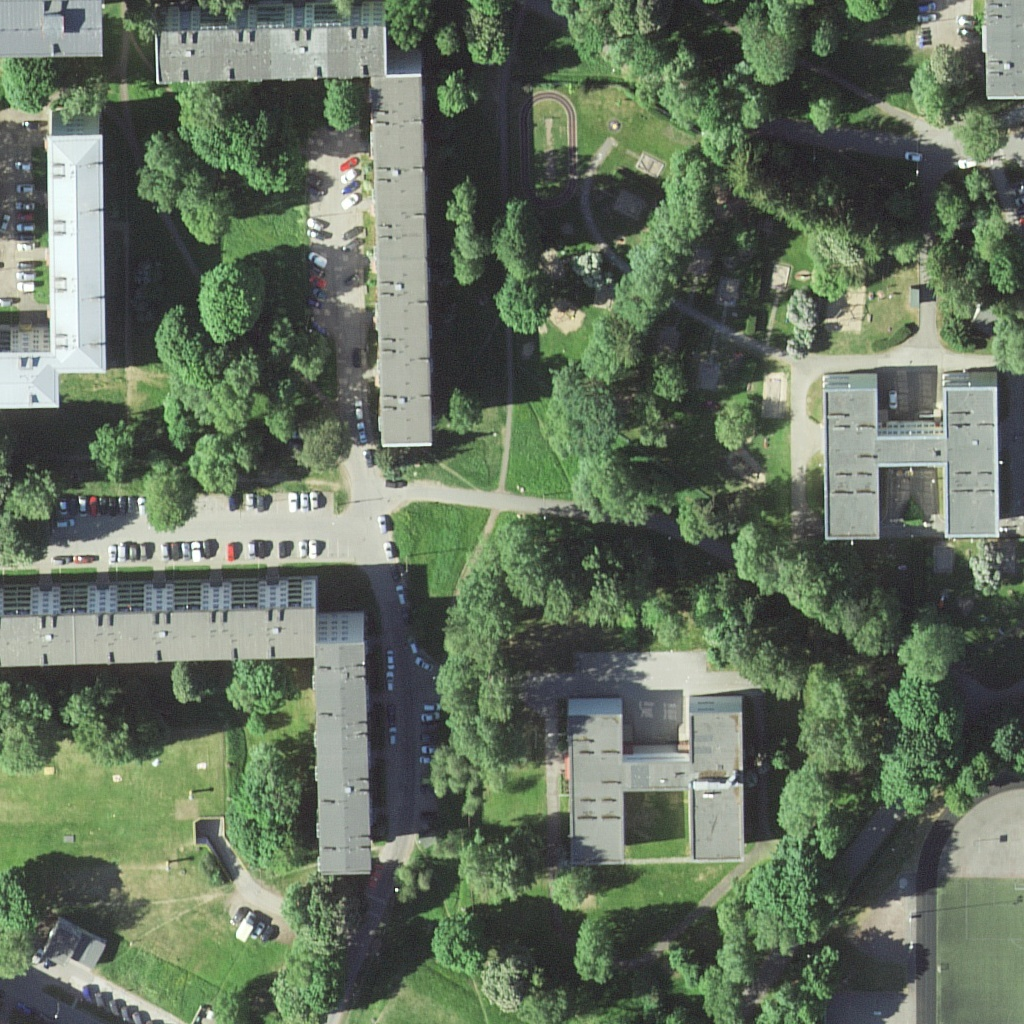building: (8, 579, 322, 664), (368, 72, 437, 449), (43, 109, 115, 378), (156, 6, 391, 88), (312, 612, 377, 875), (818, 366, 890, 545), (936, 372, 1004, 544), (565, 695, 629, 870), (685, 693, 748, 858), (6, 1, 110, 70), (1, 327, 62, 413), (980, 6, 1024, 106)
